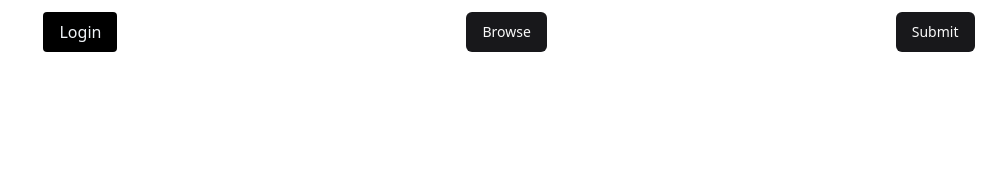
Test: AccountHeader Component › should provide sign in and sign-up options when clicked on Login
Click the button "Login".
click(80, 32)  # box [44,12,117,52]
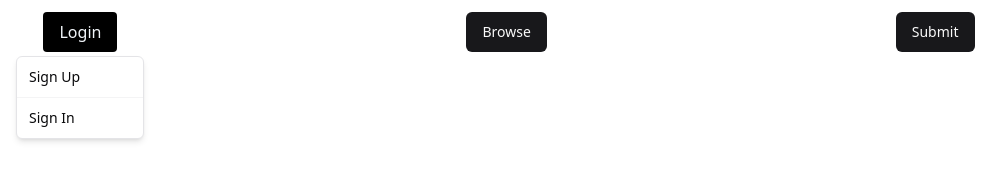
Now the menu item "Sign In" is shown, box [29,108,75,127]
Now the menu item "Sign Up" is shown, box [29,67,80,86]
